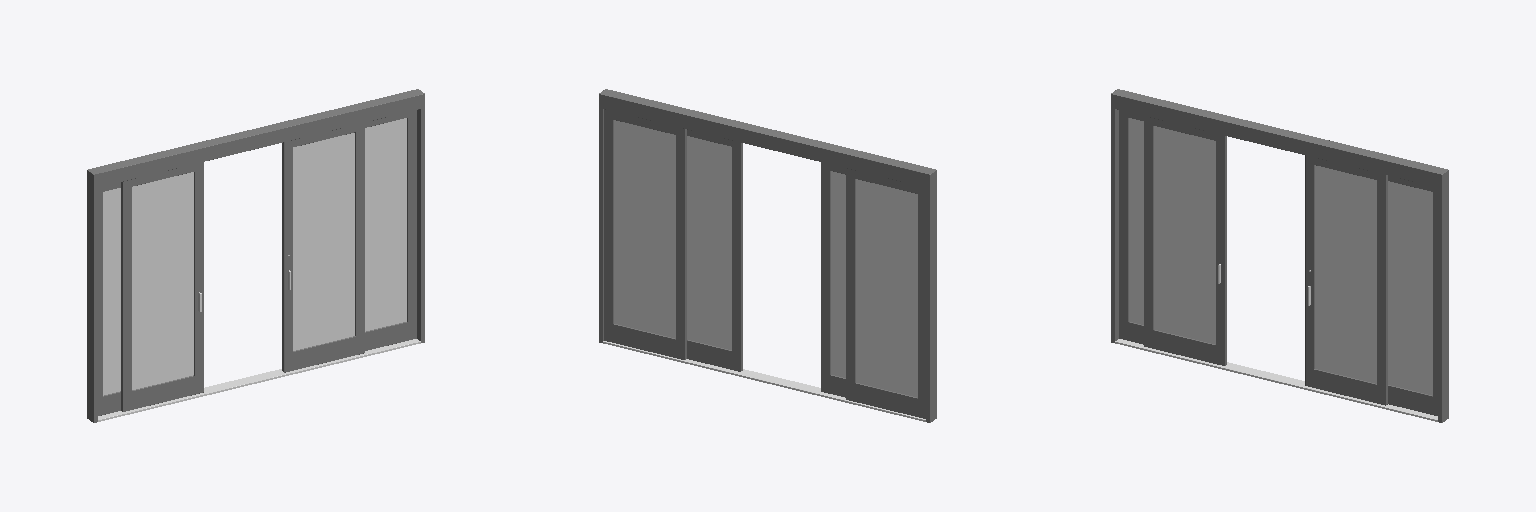
The picture shows the model from 3 angles: view 1: azimuth 30°, elevation 25°; view 2: azimuth 150°, elevation 25°; view 3: azimuth 330°, elevation 25°; orthographic projection.
Size of the model in its own units: 3.7 by 2.65 by 0.135.
Materials: 3 (1 with a texture image).